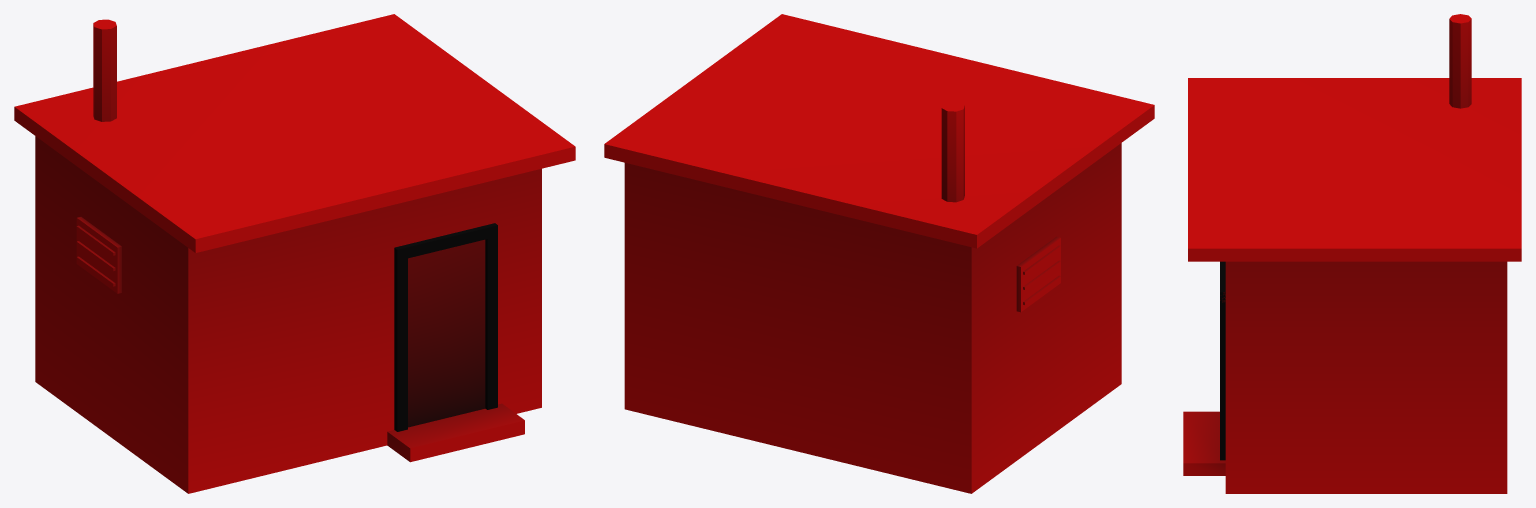
Rendered from stair_house.glb.
The picture shows the model from 3 angles, left to right: view 1: azimuth 30°, elevation 25°; view 2: azimuth 150°, elevation 25°; view 3: azimuth 270°, elevation 25°; orthographic projection. The views are drawn at different scales.
Visible parts, largest first — view 1: stair_house; view 2: stair_house; view 3: stair_house.
Boxes of the visible parts, bbox=[...] form: stair_house: bbox=[14, 14, 575, 493]; stair_house: bbox=[604, 14, 1154, 493]; stair_house: bbox=[1183, 14, 1521, 493].
Bounding box in the file's own units: 4.3 × 3.95 × 3.6.
